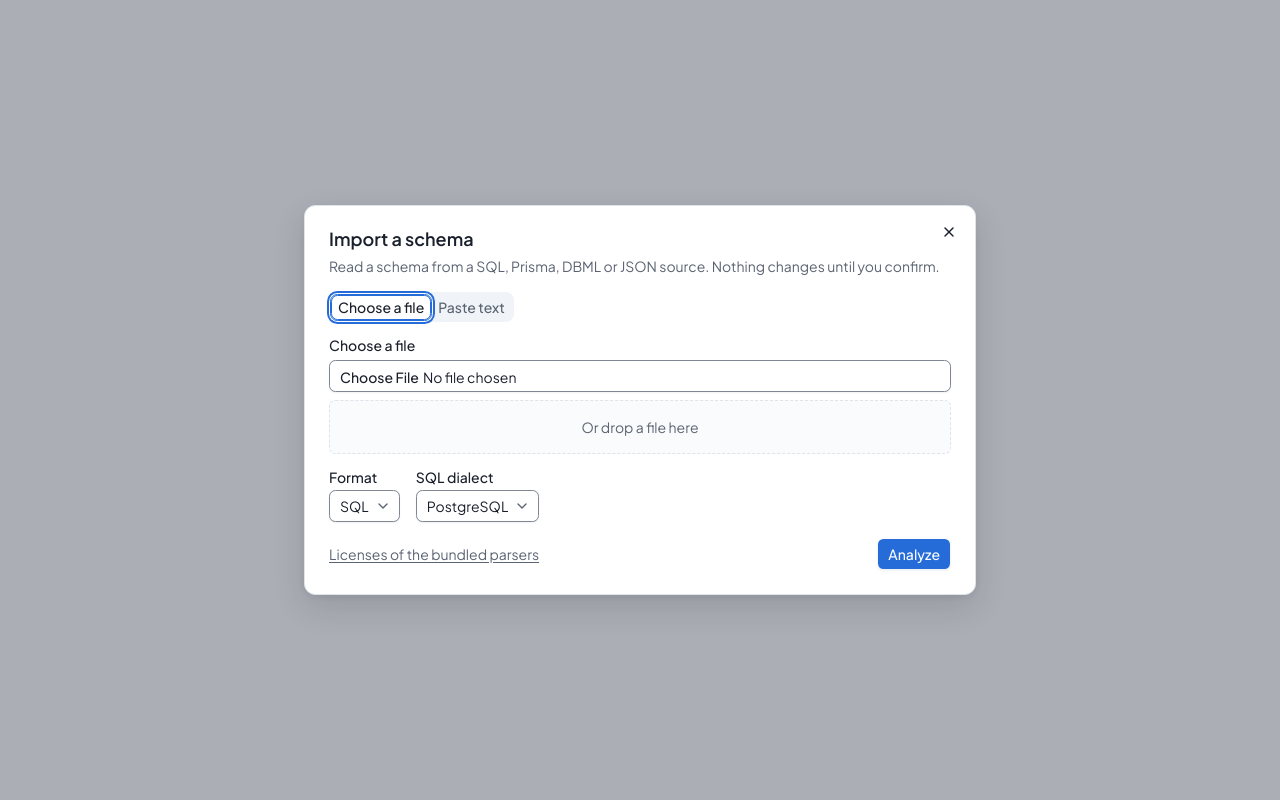
ImportDialog › does not mention the parser download for json
Click the dropdown named "Format" at (364, 506), box [329,490,400,522]
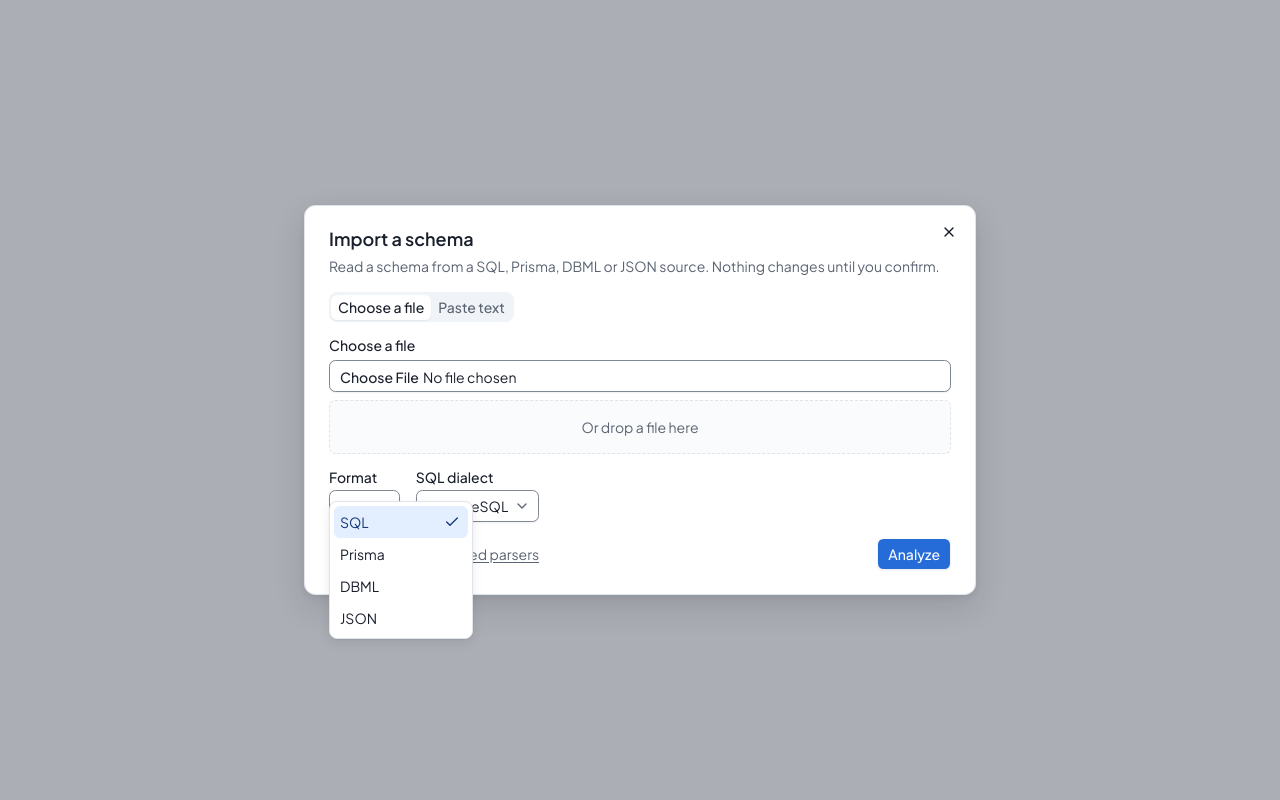
Click the option "JSON" at (358, 618), box [340,608,377,626]
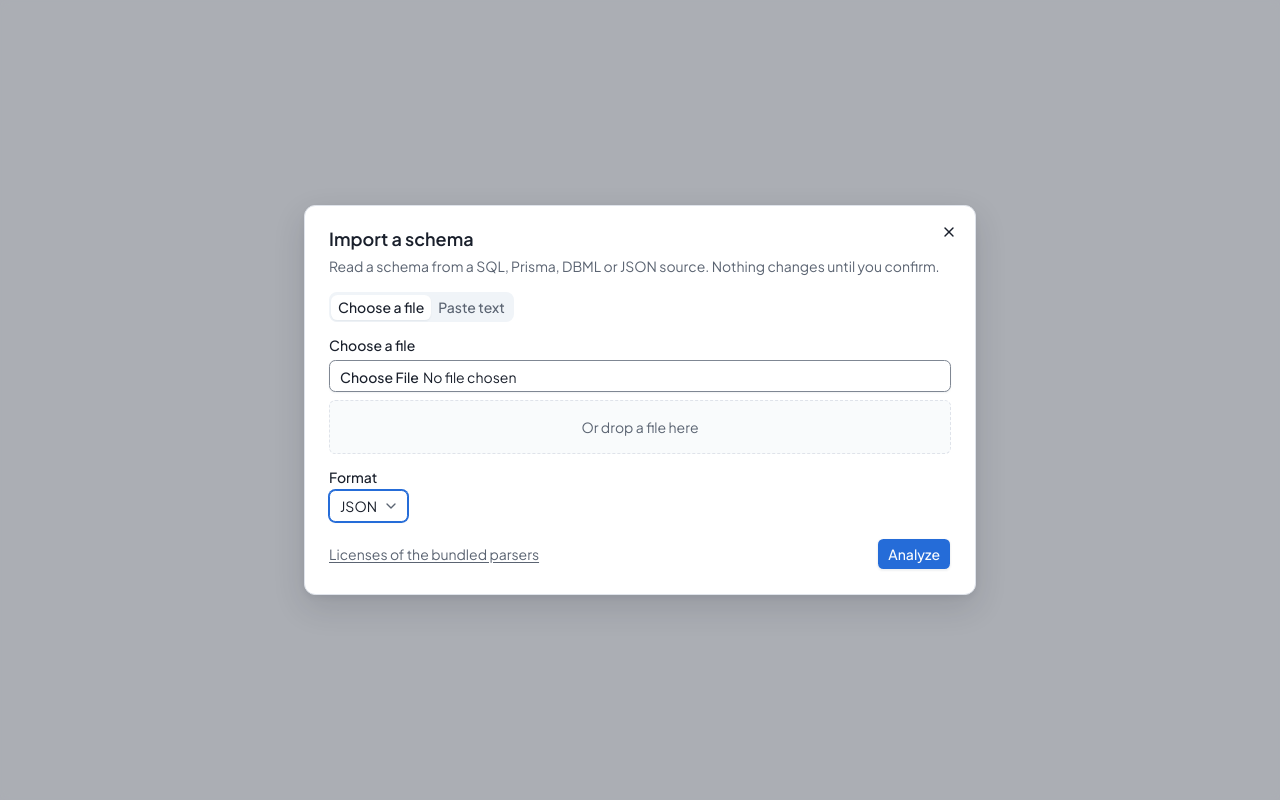
Click the tab "Paste text" at (472, 307), box [431,294,512,320]
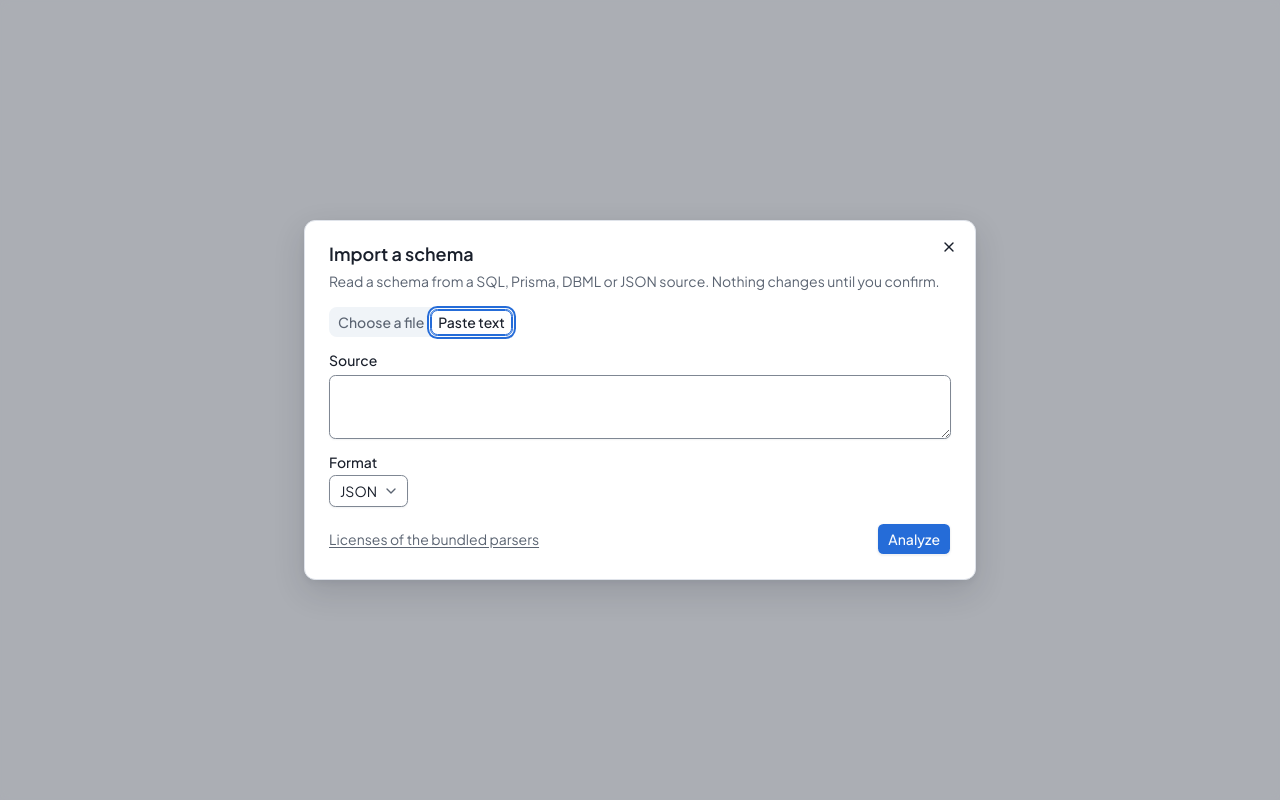
Click the text box labelled "Source" at (640, 407), box [329,375,951,439]
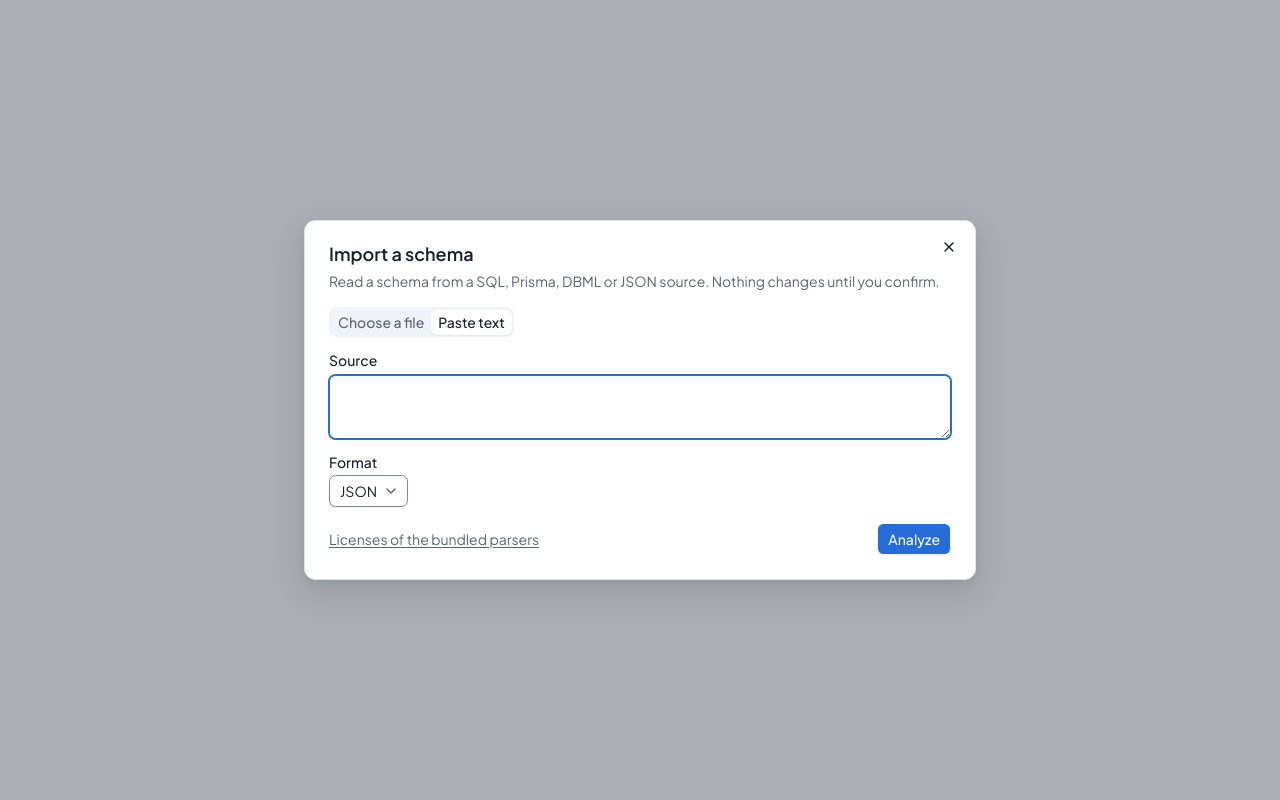
Type keys "{}"
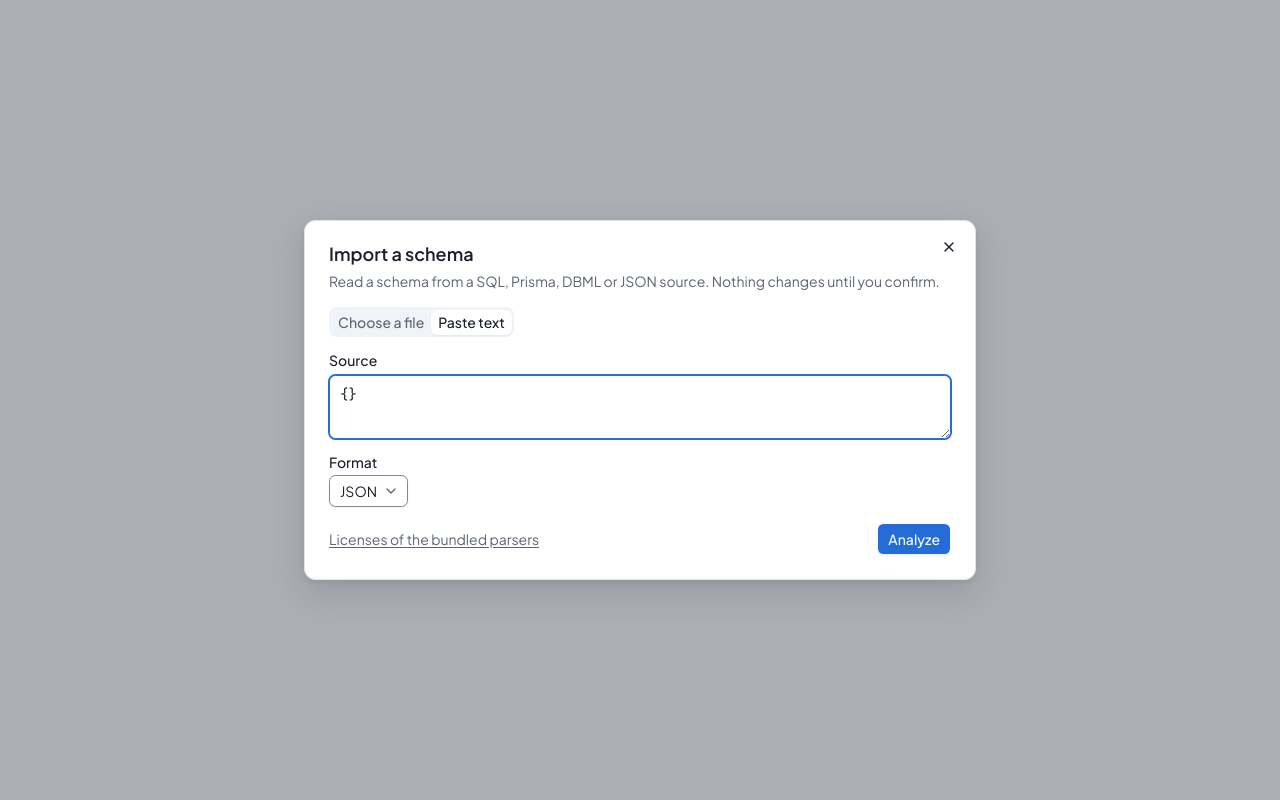
Click the button "Analyze" at (914, 539), box [877,523,951,555]
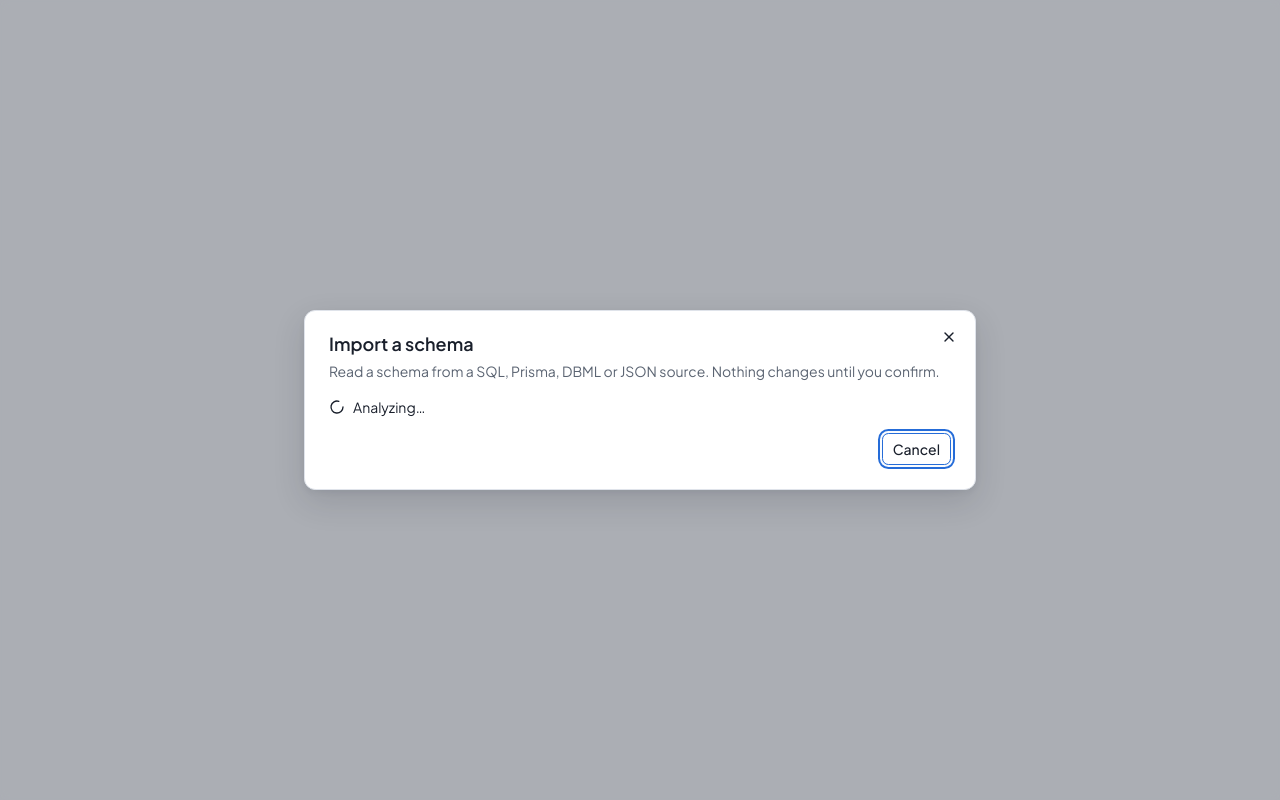
Now the button "Cancel" is shown, box [882,433,951,465]
